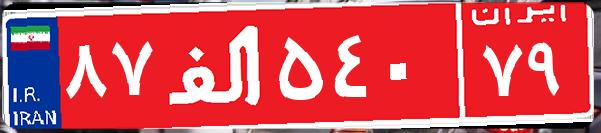0: (385, 28, 445, 110)
4: (330, 28, 385, 110)
5: (273, 28, 330, 110)
7: (475, 38, 525, 113), (110, 28, 158, 105)
8: (57, 26, 110, 107)
9: (525, 38, 570, 115)
الف: (158, 15, 273, 115)
